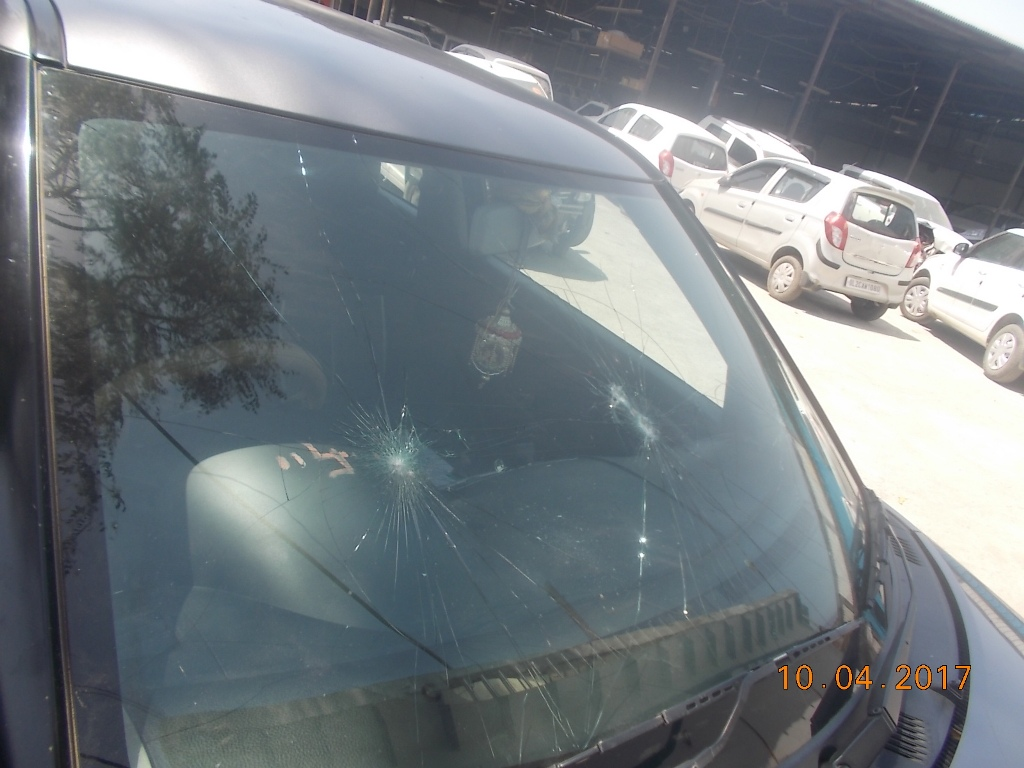Shatter: (352, 387, 451, 564), (583, 358, 673, 478), (602, 520, 675, 611)
